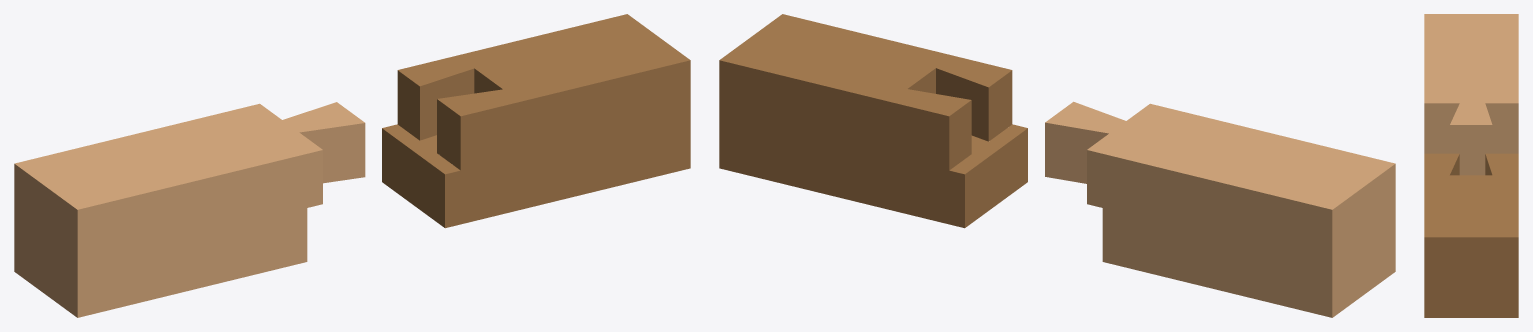
The model's file is Aritsugi.glb.
3 renders of one model, left to right at view 1: azimuth 30°, elevation 25°; view 2: azimuth 150°, elevation 25°; view 3: azimuth 270°, elevation 25°, orthographic. The views are drawn at different scales.
Visible parts, largest first — view 1: FamilyInstance Modelos genéricos Aritsugi Macho1 <333712 Ari, FamilyInstance Modelos genéricos Akatsuki Femea <335241 Akat; view 2: FamilyInstance Modelos genéricos Aritsugi Macho1 <333712 Ari, FamilyInstance Modelos genéricos Akatsuki Femea <335241 Akat; view 3: FamilyInstance Modelos genéricos Akatsuki Femea <335241 Akat, FamilyInstance Modelos genéricos Aritsugi Macho1 <333712 Ari.
Part boxes in pixels (x1,y1,x2,y2): FamilyInstance Modelos genéricos Aritsugi Macho1 <333712 Ari: [14, 102, 365, 317]; FamilyInstance Modelos genéricos Akatsuki Femea <335241 Akat: [382, 14, 690, 228]; FamilyInstance Modelos genéricos Aritsugi Macho1 <333712 Ari: [1045, 101, 1395, 317]; FamilyInstance Modelos genéricos Akatsuki Femea <335241 Akat: [719, 14, 1027, 228]; FamilyInstance Modelos genéricos Akatsuki Femea <335241 Akat: [1424, 153, 1518, 317]; FamilyInstance Modelos genéricos Aritsugi Macho1 <333712 Ari: [1424, 14, 1518, 175].
Bounding box in the file's own units: 6.19 × 1.04 × 1.1.
